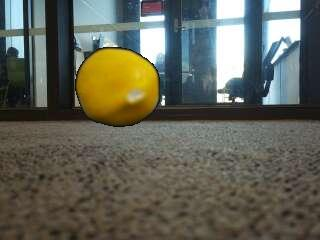lemon: (75, 49, 159, 127)
